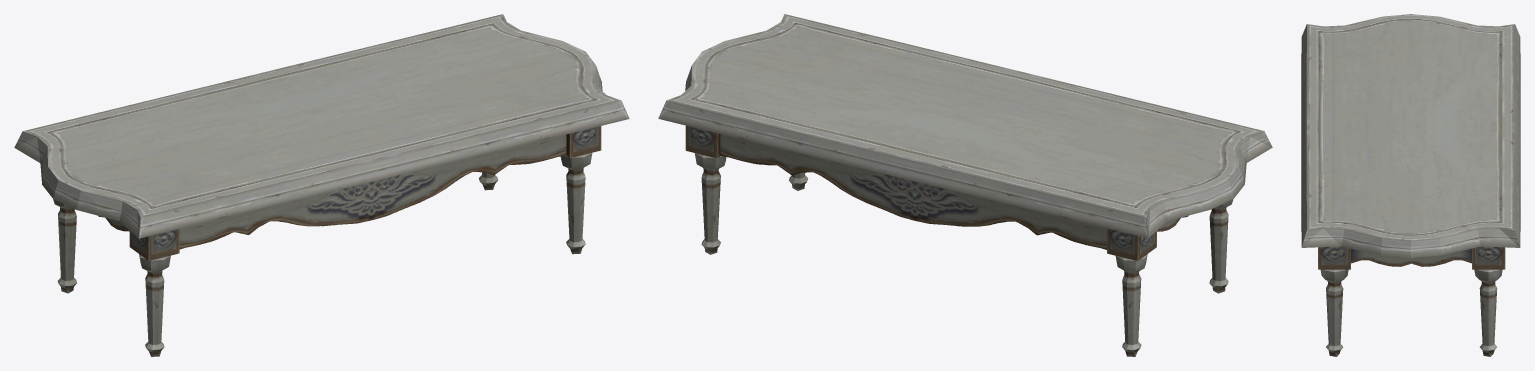
The model's file is Caress Coffee Table.obj.
The picture shows the model from 3 angles, left to right: view 1: azimuth 30°, elevation 25°; view 2: azimuth 150°, elevation 25°; view 3: azimuth 270°, elevation 25°; orthographic projection. The views are drawn at different scales.
Visible parts, largest first — view 1: s4studio_mesh_2; view 2: s4studio_mesh_2; view 3: s4studio_mesh_2.
Part boxes in pixels (x1,y1,x2,y2): s4studio_mesh_2: [14, 14, 629, 356]; s4studio_mesh_2: [658, 14, 1272, 356]; s4studio_mesh_2: [1301, 14, 1520, 356].
Size of the model in its own units: 1.77 by 0.4952 by 0.7086.
1 material, 1 textured.
